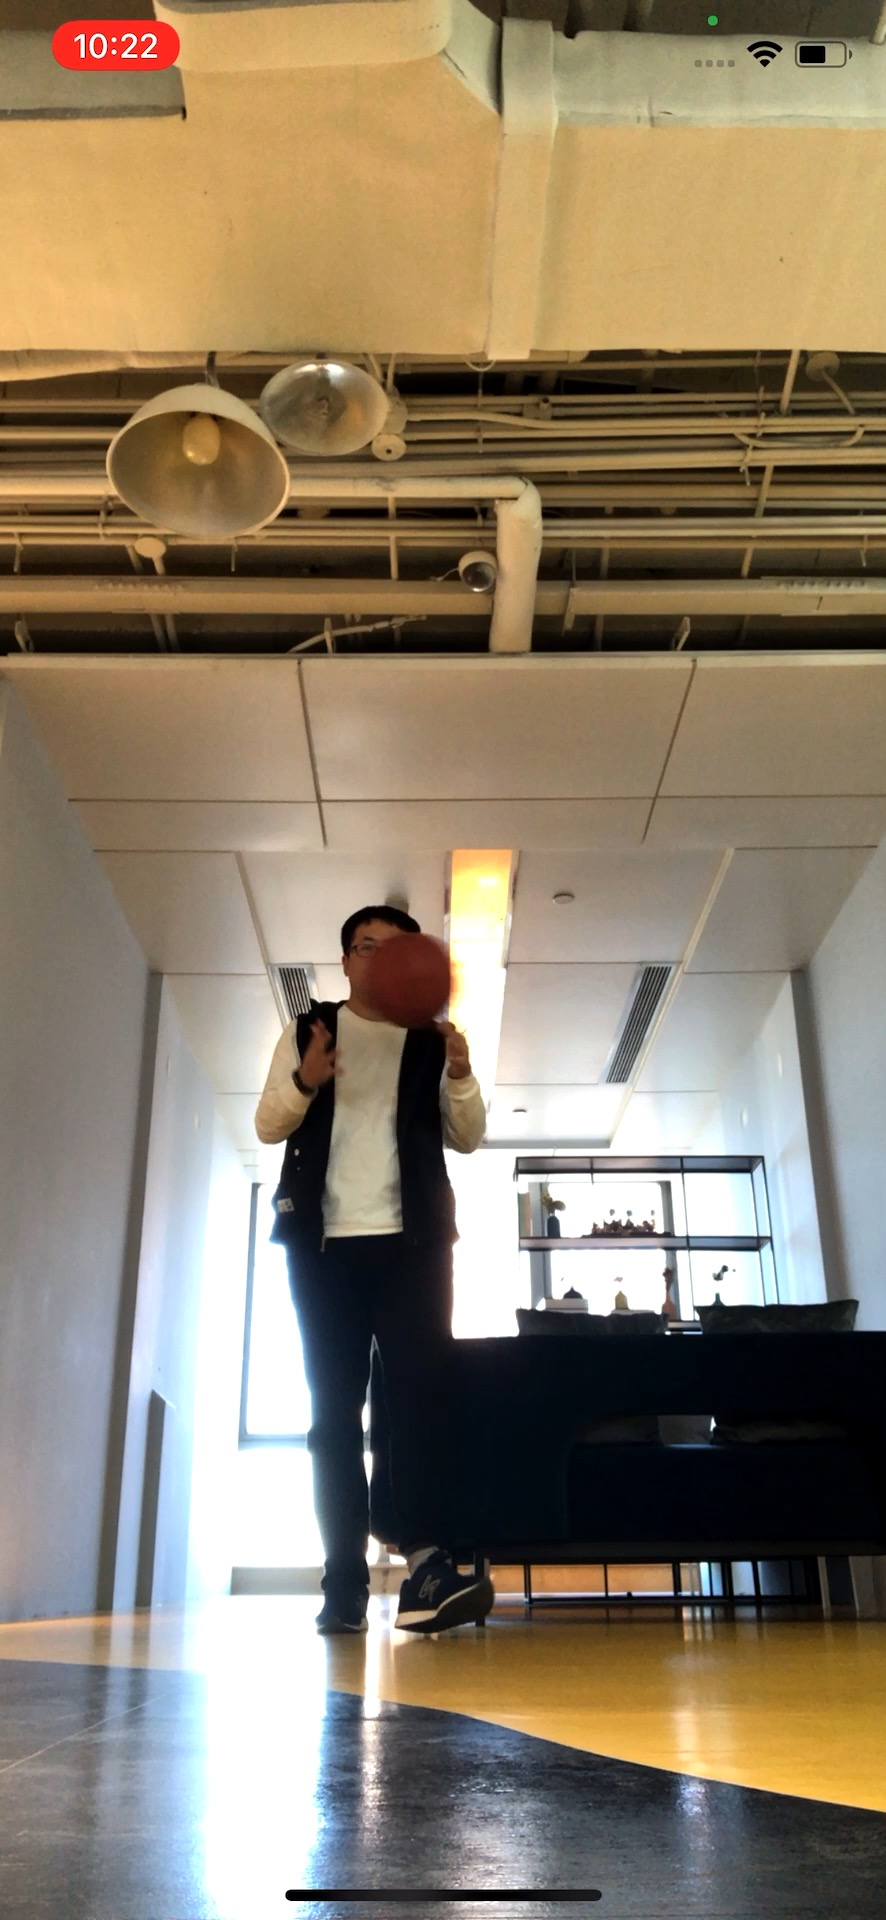ball: (363, 933, 455, 1025)
